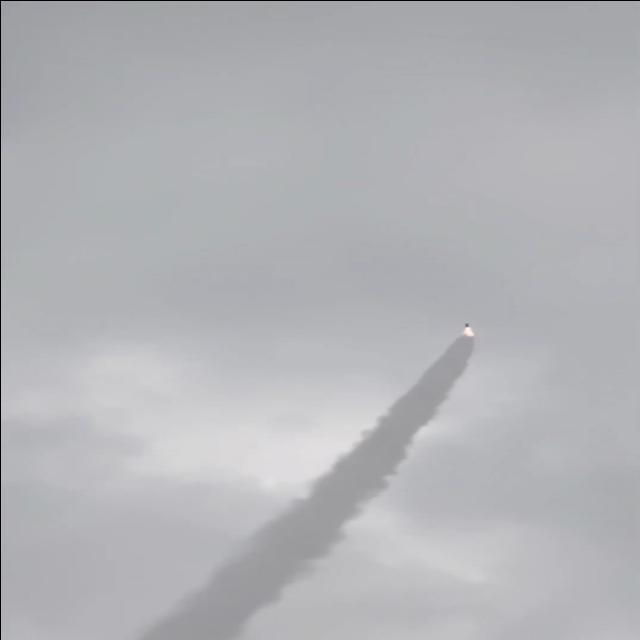Missile: (464, 321, 469, 329)
